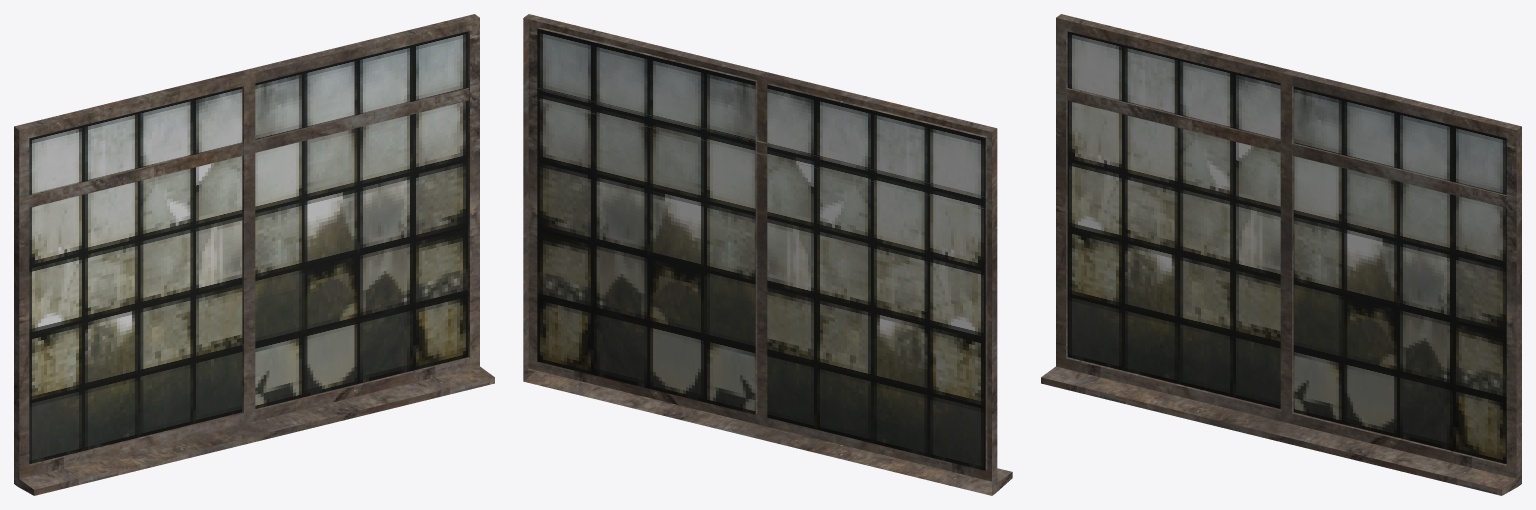
Rendered from _Window_2.FBX.
3 views of the same model, side by side, from view 1: azimuth 30°, elevation 25°; view 2: azimuth 150°, elevation 25°; view 3: azimuth 330°, elevation 25° (orthographic).
Parts seen in each view (by area): view 1: _Window_2; view 2: _Window_2; view 3: _Window_2.
Boxes of the visible parts, left/top/right/bottom form: _Window_2: left=14, top=14, right=494, bottom=495; _Window_2: left=523, top=14, right=1012, bottom=495; _Window_2: left=1041, top=14, right=1521, bottom=495.
Bounding box in the file's own units: 205 × 152 × 15.49.
Materials: 2 (2 with a texture image).
